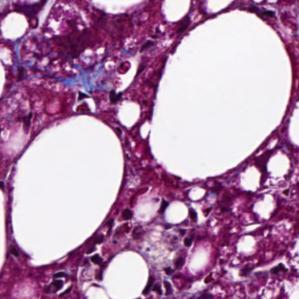inflammation: (87, 208, 135, 271), (69, 85, 132, 118), (144, 260, 187, 299)
